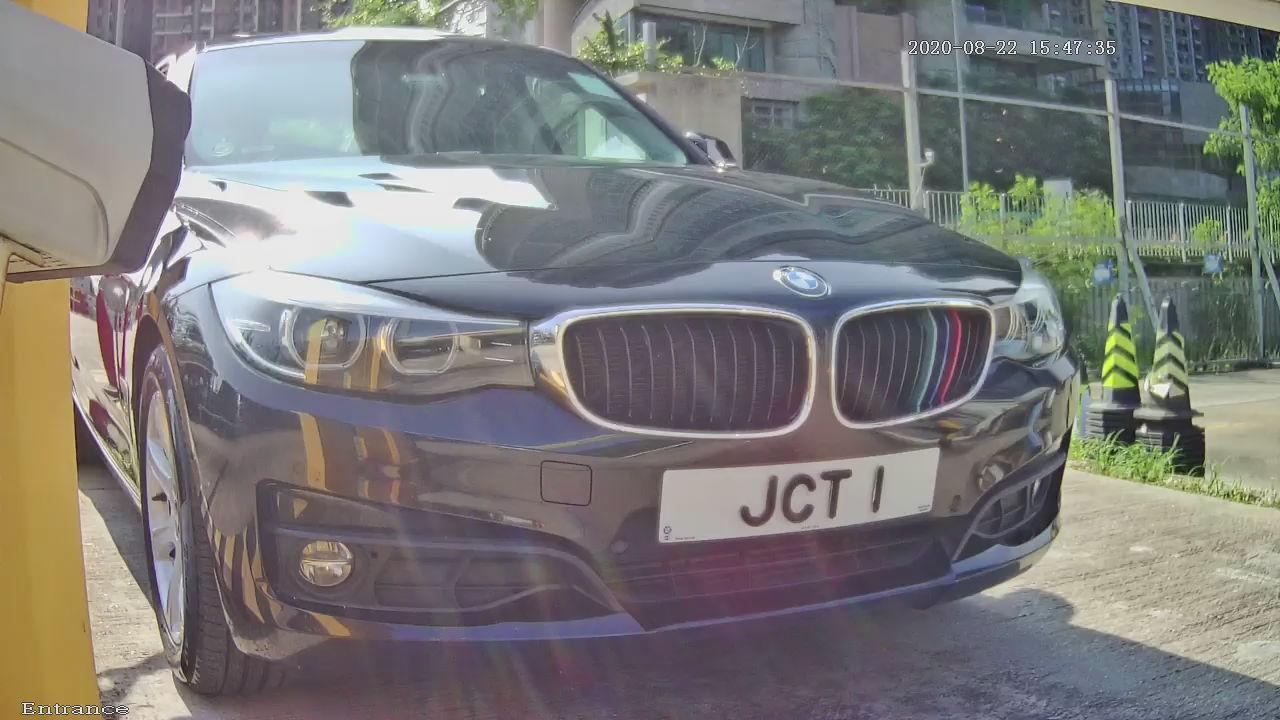Car: (12, 7, 1161, 708)
License Plate: (610, 417, 988, 580)
